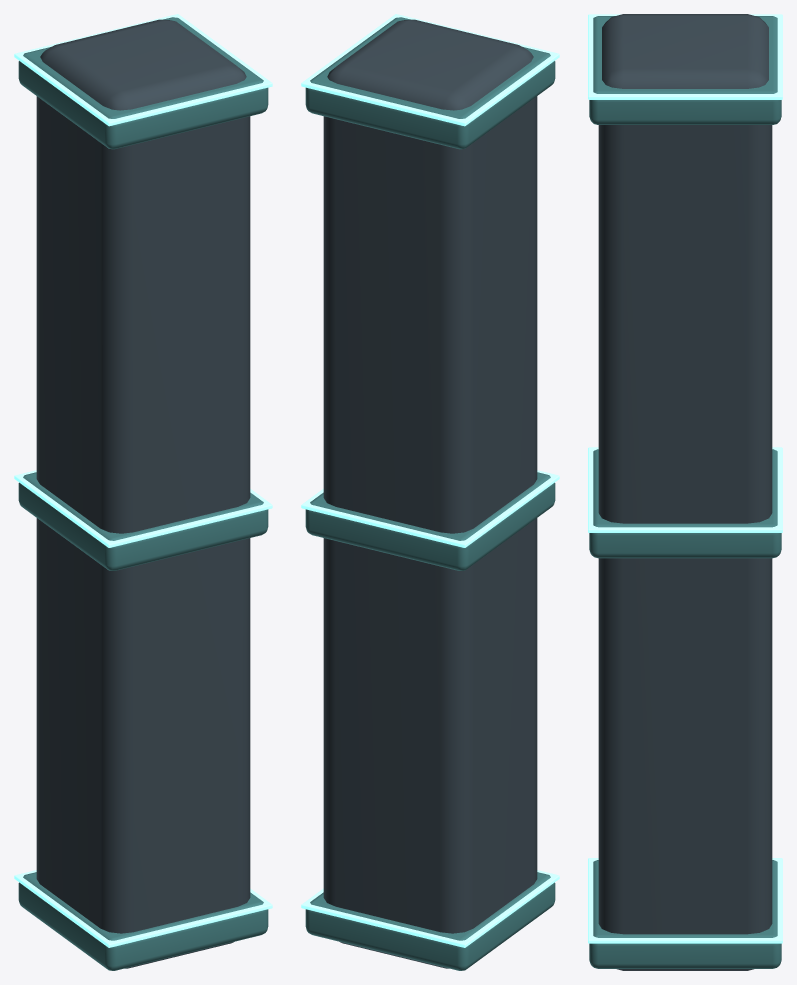
The model's file is pillar.glb.
3 views of the same model, side by side, from view 1: azimuth 30°, elevation 25°; view 2: azimuth 150°, elevation 25°; view 3: azimuth 270°, elevation 25° (orthographic). The views are drawn at different scales.
Visible parts, largest first — view 1: pillar; view 2: pillar; view 3: pillar.
Boxes of the visible parts, x1,y1,x2,y2 form: pillar: (14, 14, 272, 970); pillar: (301, 14, 559, 970); pillar: (588, 14, 782, 970).
Size of the model in its own units: 1.57 by 8 by 1.57.
